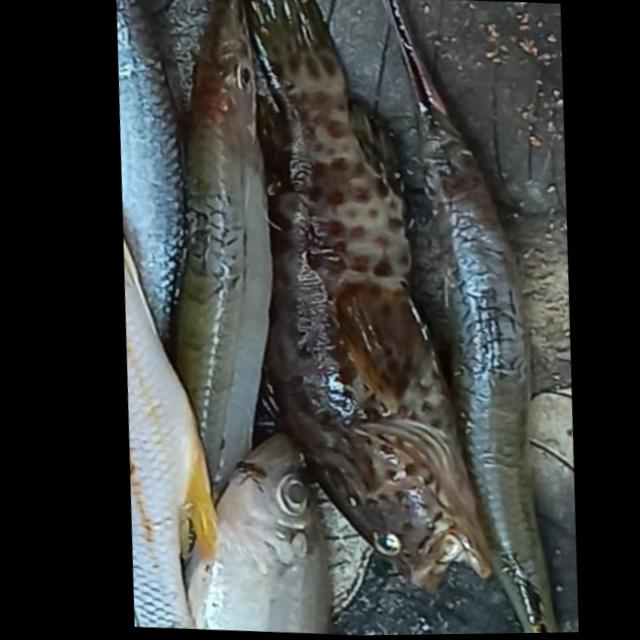Groupers: (218, 0, 523, 598)
